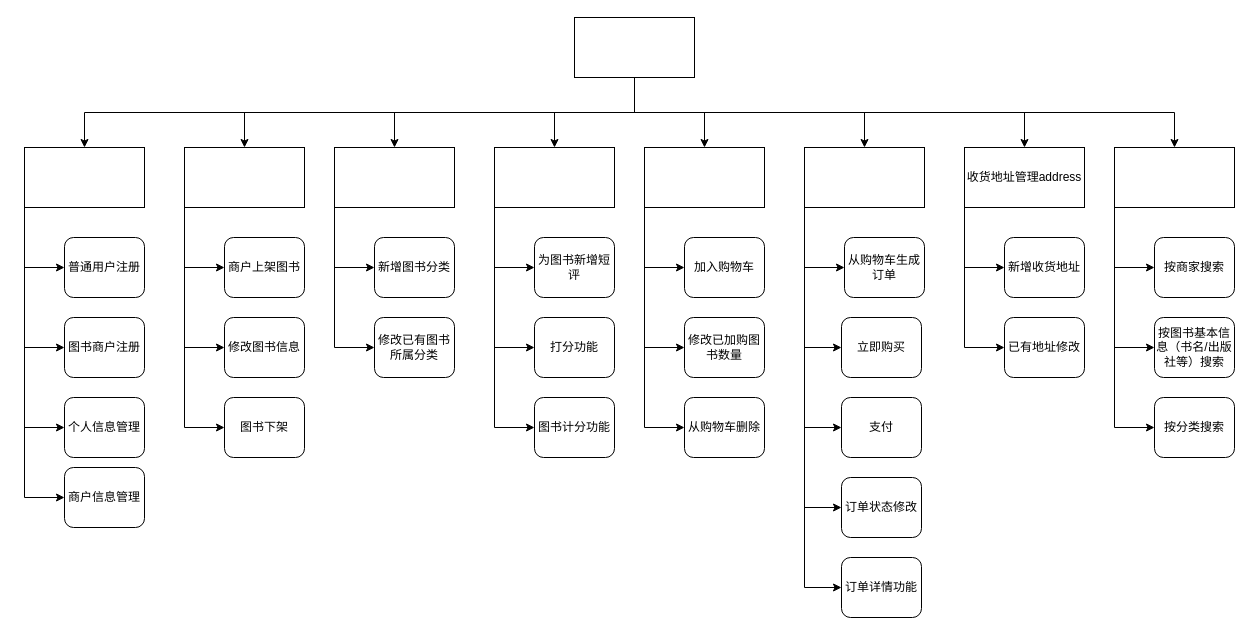
Some shapes in this 1252 by 635 pixel diagram are drawn without their labels. Each missing label, with the centre of its shape:
书评管理comment: [554,177]
图书分类管理category: [394,177]
图书搜索search: [1174,177]
图书管理模块bms: [244,177]
在线 图书 商城: [634,47]
用户管理模块ums: [84,177]
订单管理模块order: [864,177]
购物车管理模块cart: [704,177]
